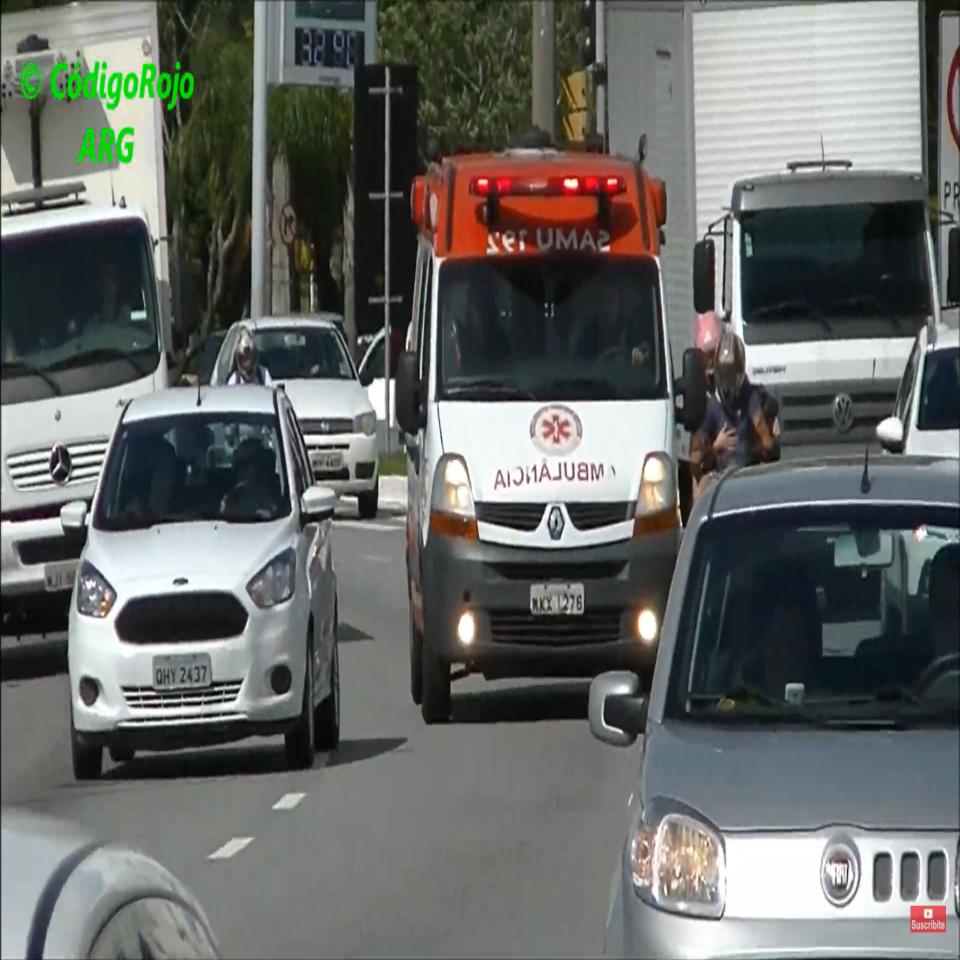bombeiro: (393, 138, 708, 719)
